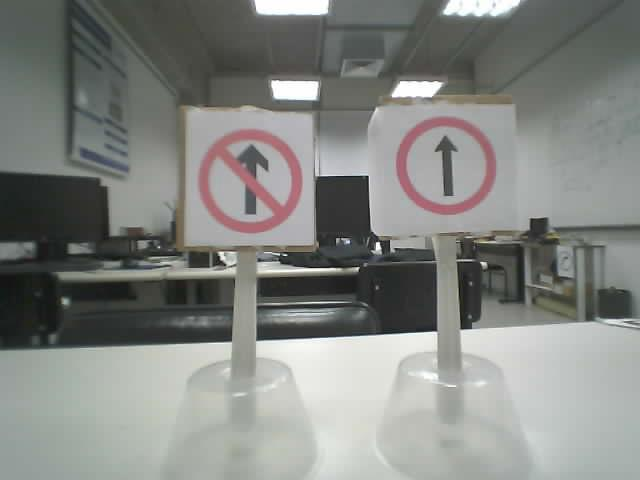R-26_frente: (394, 116, 496, 215)
R-3_sentido-proibido: (198, 127, 303, 233)
